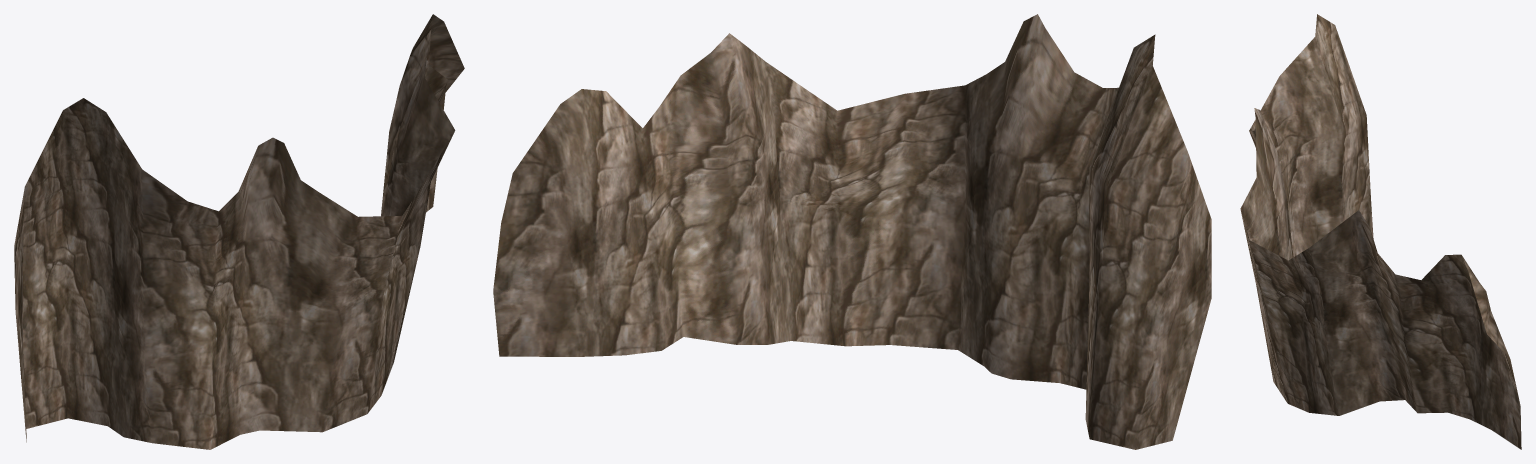
File: OVERHILL_A_01_MOUNTAIN_BACKDROP_04.fbx
The picture shows the model from 3 angles, left to right: view 1: azimuth 30°, elevation 25°; view 2: azimuth 150°, elevation 25°; view 3: azimuth 270°, elevation 25°; orthographic projection. The views are drawn at different scales.
Parts seen in each view (by area): view 1: OVERHILL_A_01_MOUNTAIN_BACKDROP_04; view 2: OVERHILL_A_01_MOUNTAIN_BACKDROP_04; view 3: OVERHILL_A_01_MOUNTAIN_BACKDROP_04.
Boxes of the visible parts, left/top/right/bottom form: OVERHILL_A_01_MOUNTAIN_BACKDROP_04: left=14, top=14, right=464, bottom=449; OVERHILL_A_01_MOUNTAIN_BACKDROP_04: left=493, top=14, right=1211, bottom=449; OVERHILL_A_01_MOUNTAIN_BACKDROP_04: left=1240, top=14, right=1521, bottom=449.
Size of the model in its own units: 295373 by 189837 by 167800.
Materials: 1 (1 with a texture image).
